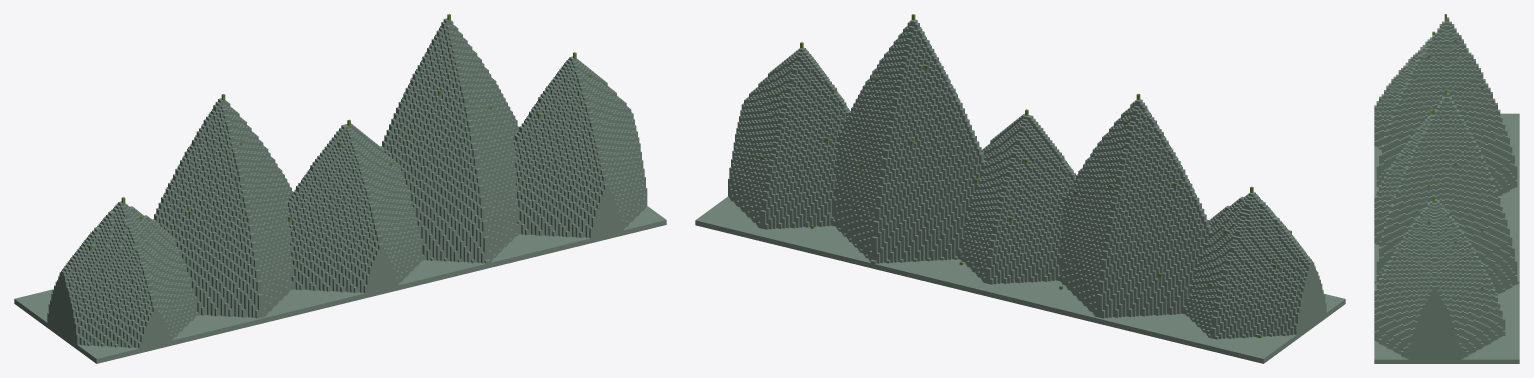
3 renders of one model, left to right at view 1: azimuth 30°, elevation 25°; view 2: azimuth 150°, elevation 25°; view 3: azimuth 270°, elevation 25°, orthographic. The views are drawn at different scales.
Visible parts, largest first — view 1: 远山叠嶂岩脊代理母版; view 2: 远山叠嶂岩脊代理母版; view 3: 远山叠嶂岩脊代理母版.
Boxes of the visible parts, <box> form: 远山叠嶂岩脊代理母版: <box>14,14,666,363</box>; 远山叠嶂岩脊代理母版: <box>695,14,1345,363</box>; 远山叠嶂岩脊代理母版: <box>1374,14,1519,363</box>.
Size of the model in its own units: 48 by 18 by 12.
Materials: 3 (3 with a texture image).
